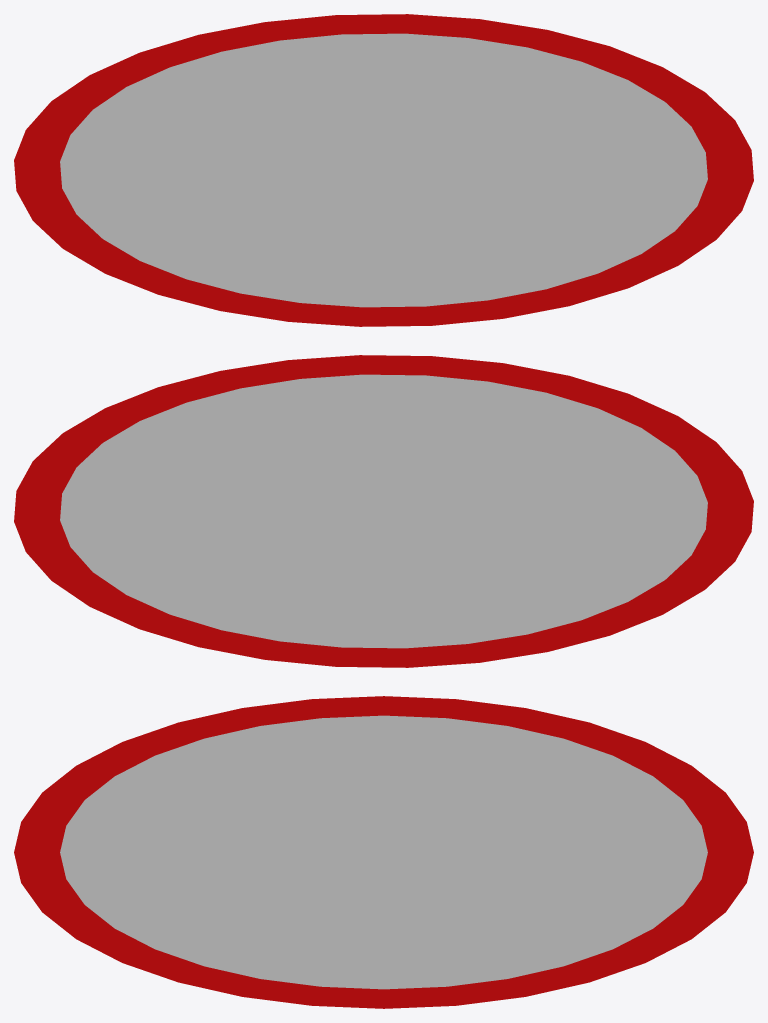
File: mesh_Spaceship_DM_SwitchingCylinder.fbx
The picture shows the model from 3 angles, top to bottom: view 1: azimuth 30°, elevation 25°; view 2: azimuth 150°, elevation 25°; view 3: azimuth 270°, elevation 25°; orthographic projection.
Parts seen in each view (by area): view 1: Cylinder.008; view 2: Cylinder.008; view 3: Cylinder.008.
Part boxes in pixels (x1,y1,x2,y2): Cylinder.008: (14,14,753,326); Cylinder.008: (14,355,753,667); Cylinder.008: (14,696,753,1008).
Size of the model in its own units: 6.5 by 0 by 6.5.
